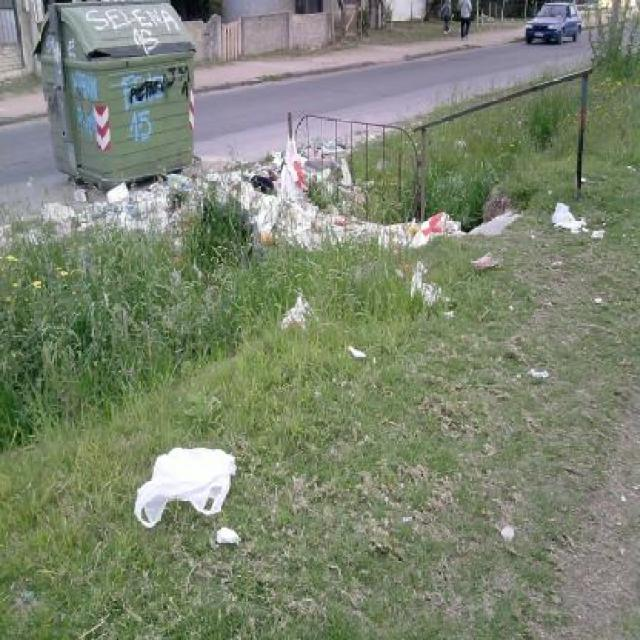garbage: (129, 436, 233, 519), (235, 156, 320, 245), (311, 203, 456, 249), (98, 171, 184, 218)
